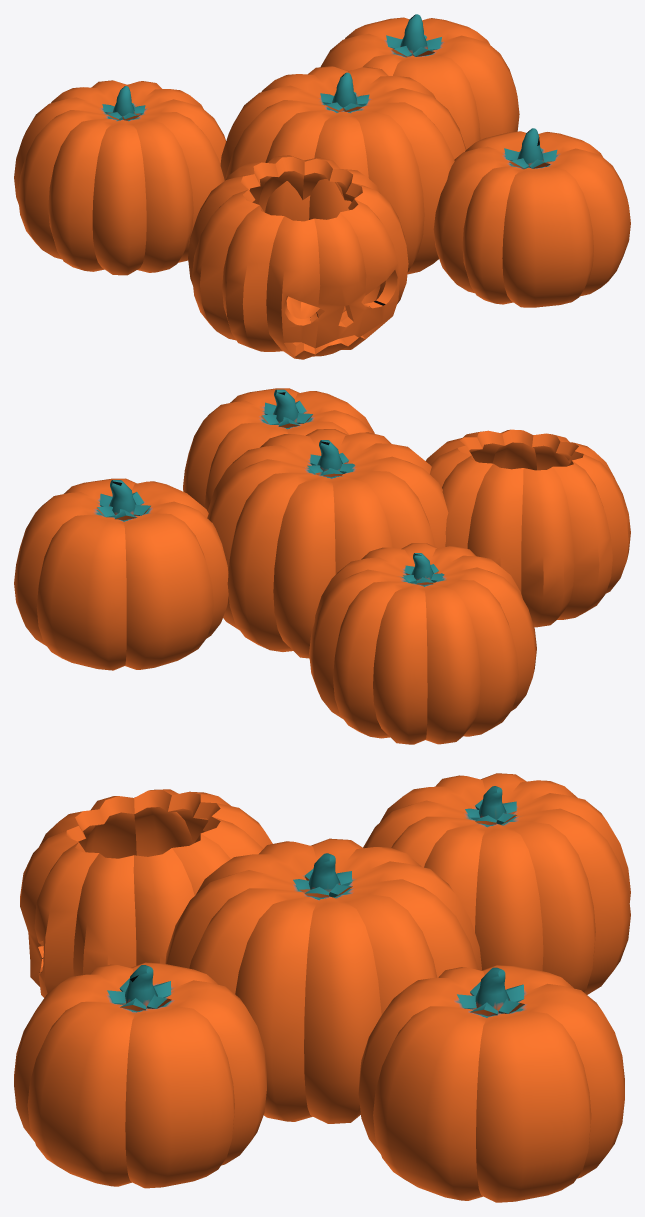
Rendered from pumpkin-patch.glb.
3 renders of one model, top to bottom at view 1: azimuth 30°, elevation 25°; view 2: azimuth 150°, elevation 25°; view 3: azimuth 270°, elevation 25°, orthographic. The views are drawn at different scales.
Parts seen in each view (by area): view 1: pumpkinLarge; view 2: pumpkinLarge; view 3: pumpkinLarge.
Part boxes in pixels (x1,y1,x2,y2): pumpkinLarge: (14,14,630,359); pumpkinLarge: (14,388,630,744); pumpkinLarge: (14,773,630,1202).
Bounding box in the file's own units: 2.31 × 0.8582 × 2.02.
1 material, 1 textured.
